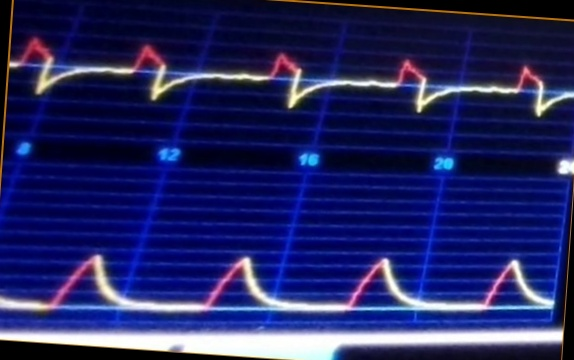Accumulation Flow: (12, 25, 574, 139)
Volume: (1, 229, 554, 321)
